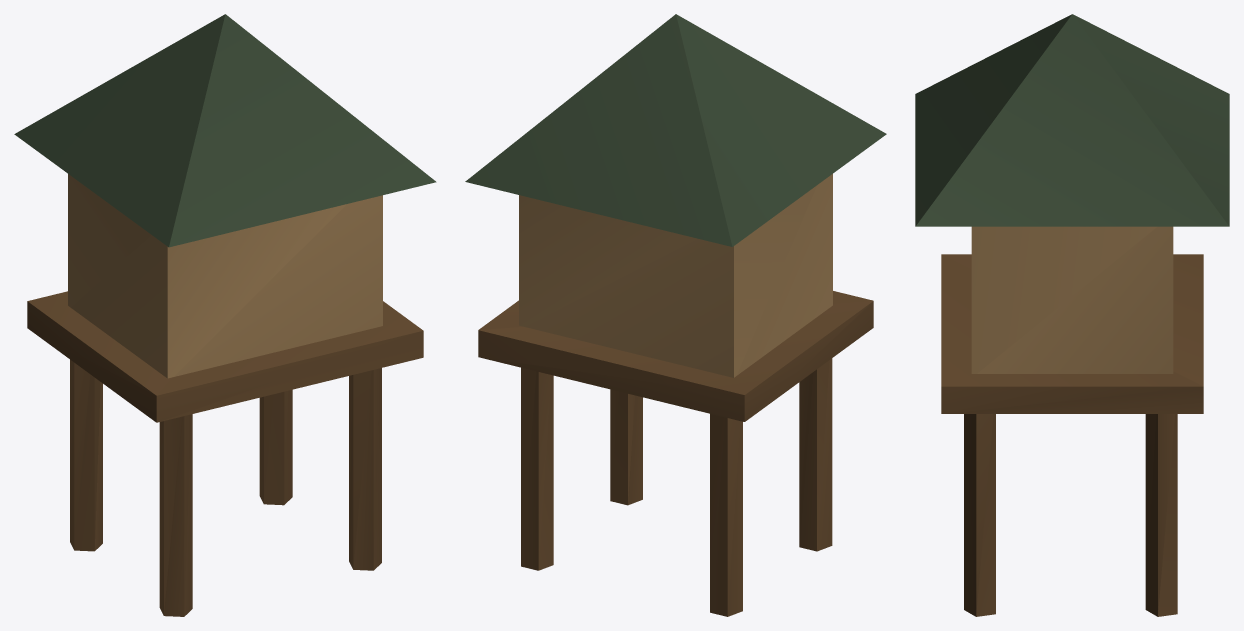
The model's file is pilotis.glb.
3 views of the same model, side by side, from view 1: azimuth 30°, elevation 25°; view 2: azimuth 150°, elevation 25°; view 3: azimuth 270°, elevation 25° (orthographic).
Visible parts, largest first — view 1: pilotis; view 2: pilotis; view 3: pilotis.
Boxes of the visible parts, left/top/right/bottom form: pilotis: left=14, top=14, right=436, bottom=616; pilotis: left=465, top=14, right=886, bottom=616; pilotis: left=915, top=14, right=1229, bottom=616.
Size of the model in its own units: 0.6223 by 1.2 by 0.6223.
